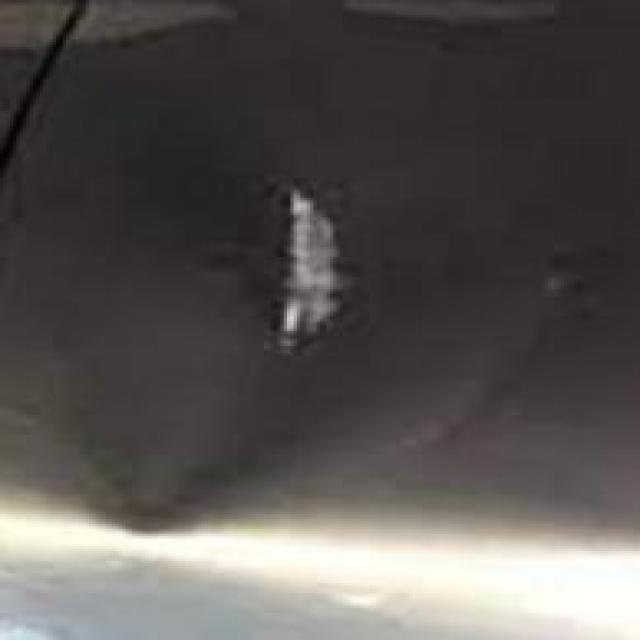dent: (72, 150, 448, 532)
